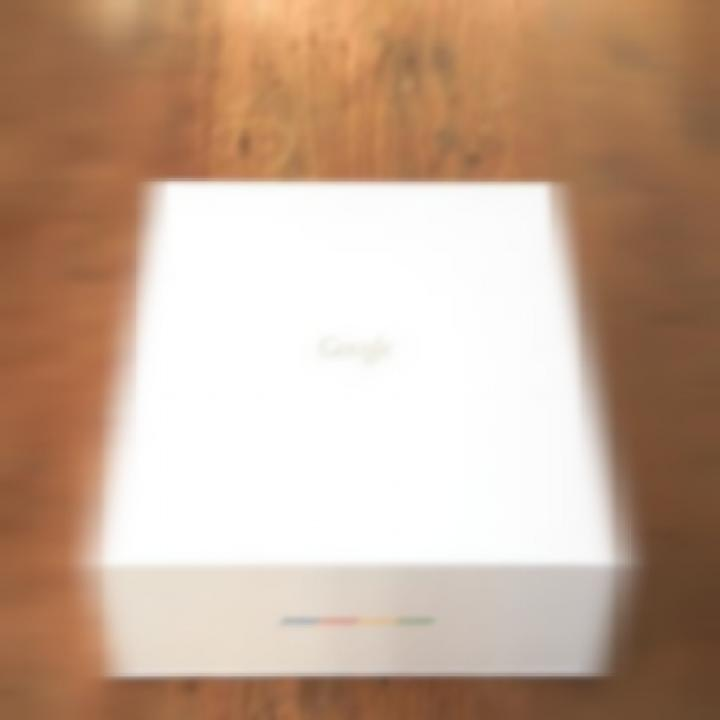package: (104, 183, 625, 681)
